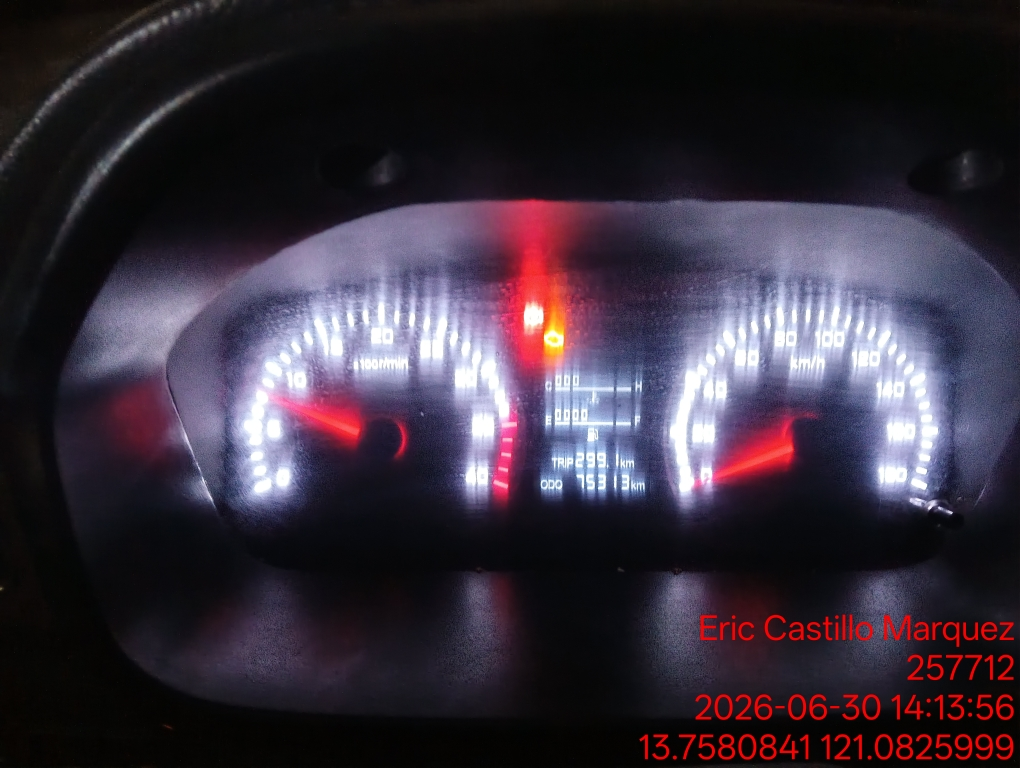grid_pose: (111, 41, 631, 426)
